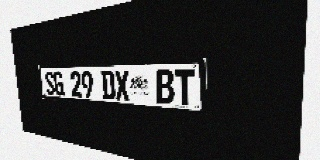2: (70, 71, 82, 97)
9: (81, 71, 94, 98)
B: (155, 69, 175, 104)
D: (101, 70, 116, 100)
G: (53, 71, 65, 96)
S: (44, 72, 55, 95)
T: (174, 69, 195, 106)
X: (114, 70, 130, 101)
